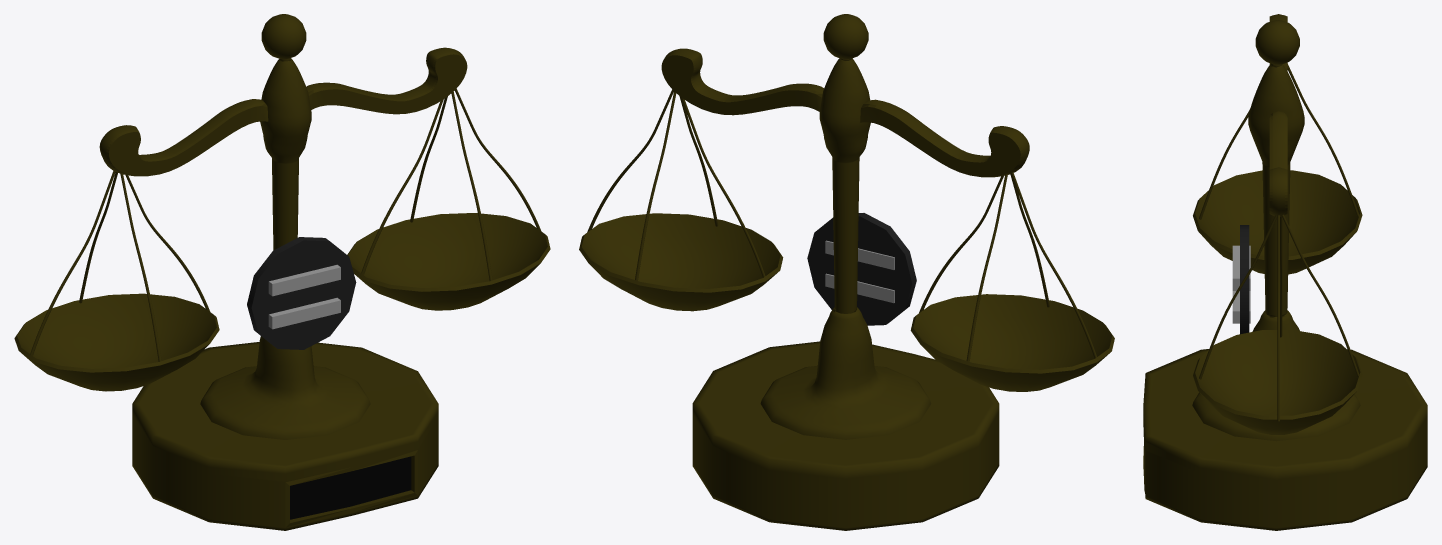
File: Balancing Scale.FBX
The picture shows the model from 3 angles, left to right: view 1: azimuth 30°, elevation 25°; view 2: azimuth 150°, elevation 25°; view 3: azimuth 270°, elevation 25°; orthographic projection.
Parts seen in each view (by area): view 1: scale_arms_and_weights, Object003, scale_body; view 2: scale_arms_and_weights, Object003, scale_body; view 3: Object003, scale_arms_and_weights, scale_body.
Part boxes in pixels (x1,y1,x2,y2): scale_arms_and_weights: [14, 47, 550, 391]; Object003: [132, 342, 438, 530]; scale_body: [200, 14, 370, 439]; scale_arms_and_weights: [579, 48, 1114, 391]; Object003: [692, 341, 999, 530]; scale_body: [760, 14, 931, 439]; Object003: [1143, 349, 1427, 530]; scale_arms_and_weights: [1193, 14, 1362, 434]; scale_body: [1192, 20, 1360, 441].
Bounding box in the file's own units: 132 × 110 × 63.64.
